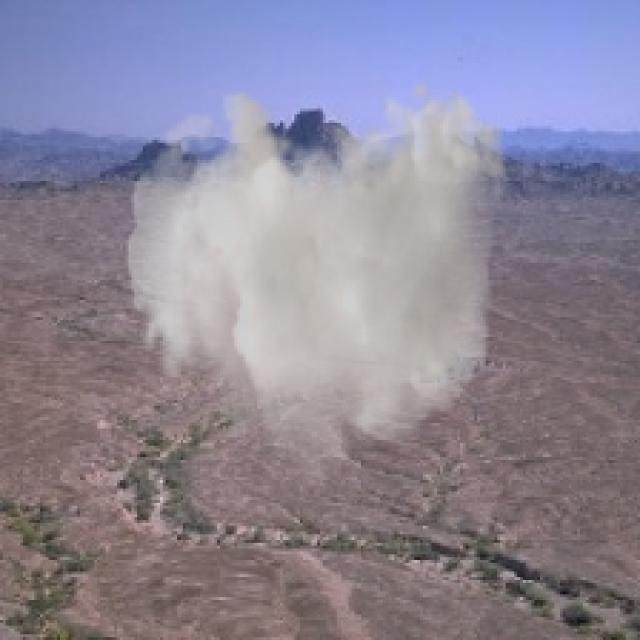smoke: (126, 74, 508, 497)
